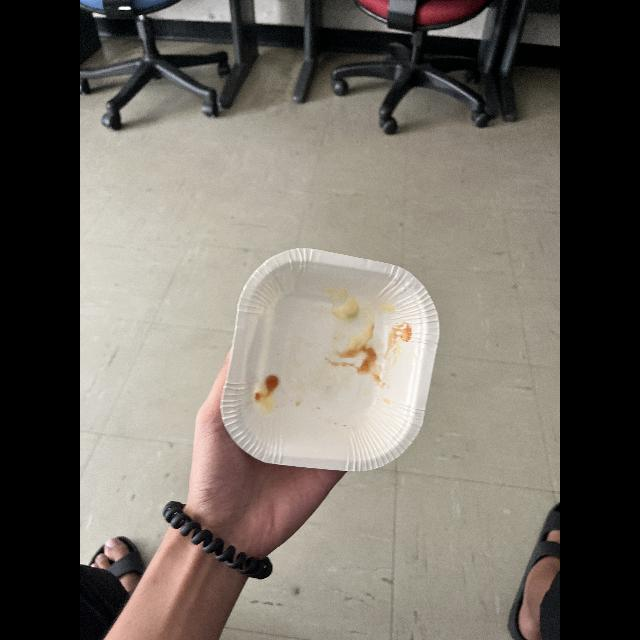cardboard_bowl: (218, 242, 446, 470)
